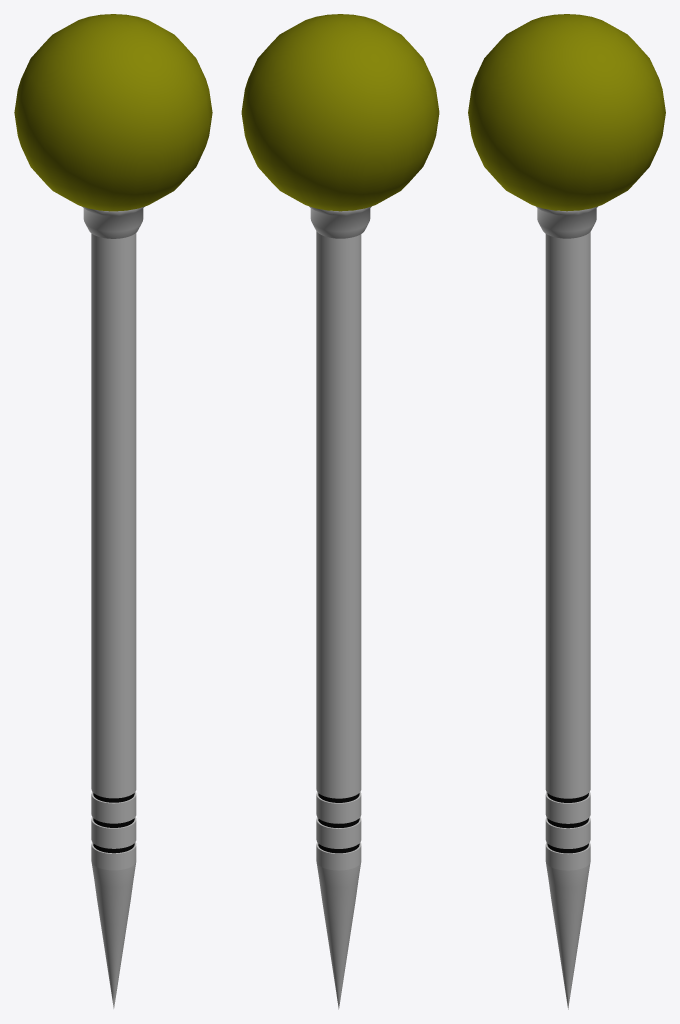
The model's file is OLIVE.glb.
The picture shows the model from 3 angles, left to right: view 1: azimuth 30°, elevation 25°; view 2: azimuth 150°, elevation 25°; view 3: azimuth 270°, elevation 25°; orthographic projection.
Parts seen in each view (by area): view 1: Needle, Sphere, Ball_Holder; view 2: Needle, Sphere, Ball_Holder; view 3: Needle, Sphere, Ball_Holder.
Part boxes in pixels (<box>): Needle: <box>91,233,136,1008</box>; Sphere: <box>14,14,212,211</box>; Ball_Holder: <box>82,206,144,238</box>; Needle: <box>316,231,361,1009</box>; Sphere: <box>241,14,439,211</box>; Ball_Holder: <box>309,206,371,238</box>; Needle: <box>545,232,590,1009</box>; Sphere: <box>468,14,665,211</box>; Ball_Holder: <box>536,206,597,238</box>.
Size of the model in its own units: 2.2 by 12.1 by 2.2.
